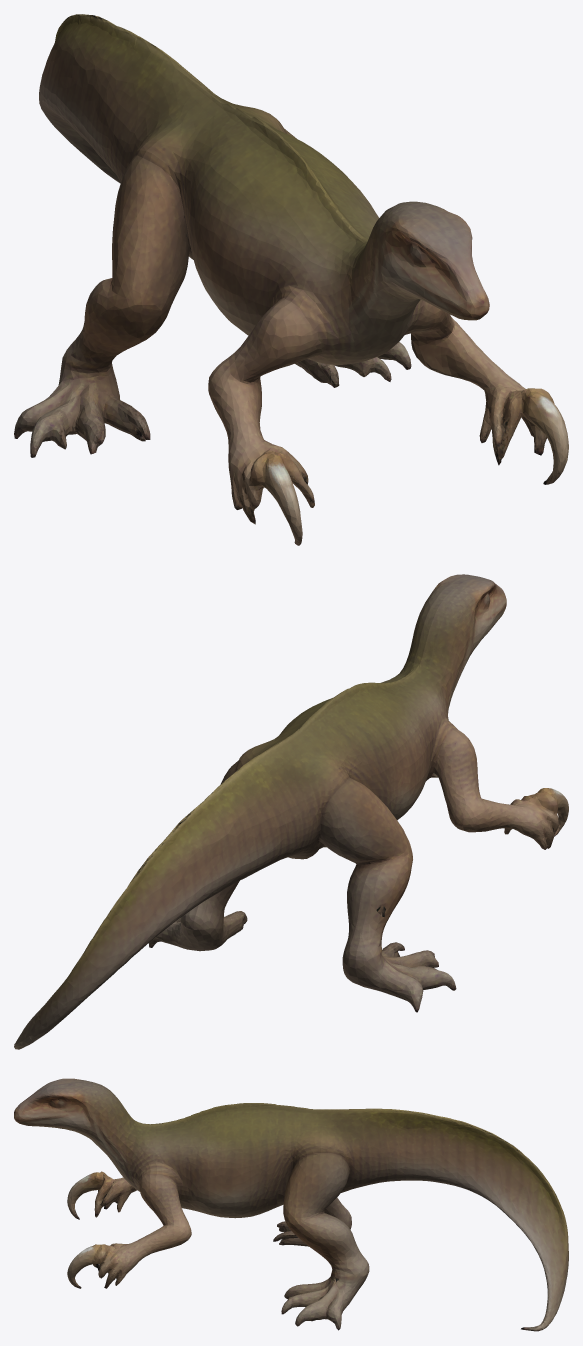
3 views of the same model, one above another, from view 1: azimuth 30°, elevation 25°; view 2: azimuth 150°, elevation 25°; view 3: azimuth 270°, elevation 25° (orthographic). The views are drawn at different scales.
Visible parts, largest first — view 1: world; view 2: world; view 3: world.
Boxes of the visible parts, x1=… form: world: x1=14, y1=14, x2=568, y2=545; world: x1=14, y1=574, x2=568, y2=1049; world: x1=14, y1=1078, x2=568, y2=1331.
Bounding box in the file's own units: 0.221 × 0.1989 × 0.5.
Materials: 2 (2 with a texture image).
